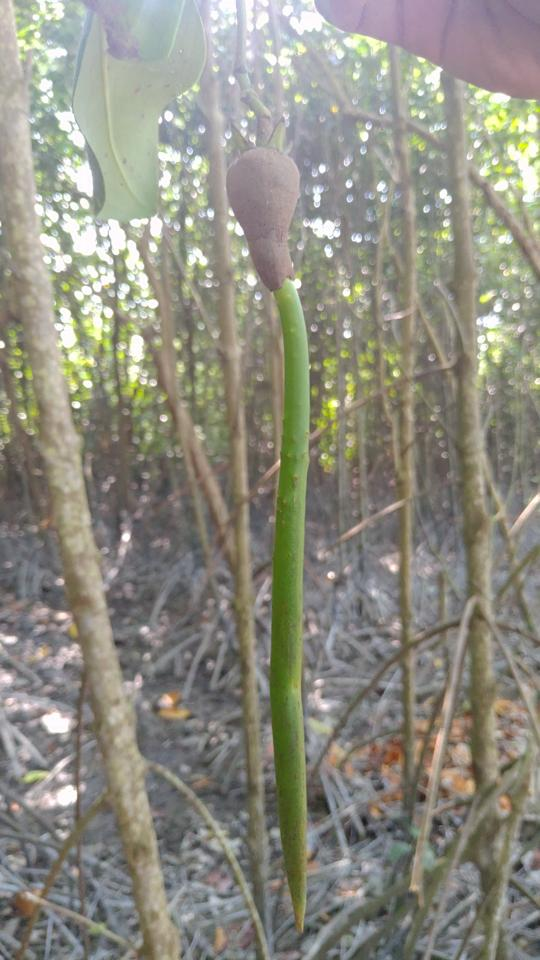mentah: (204, 106, 338, 943)
